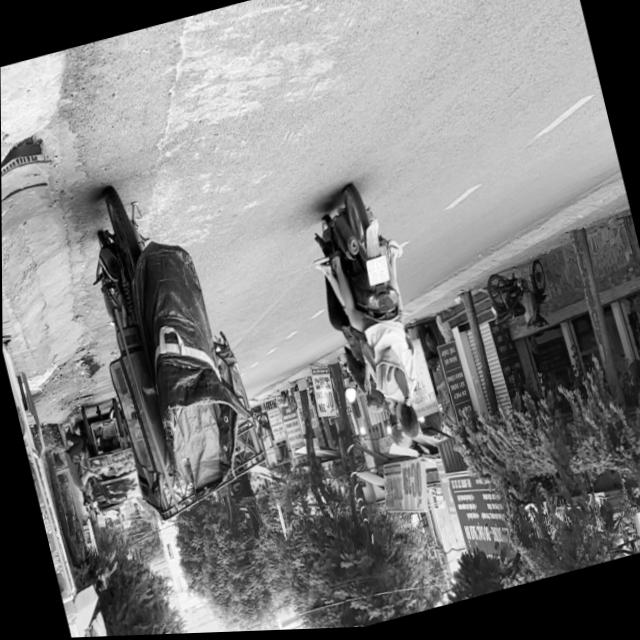helmet: (384, 409, 411, 455)
licenseplate: (298, 176, 445, 463)
motorcyclist: (393, 399, 425, 447)
nohelmet: (364, 258, 389, 287)
